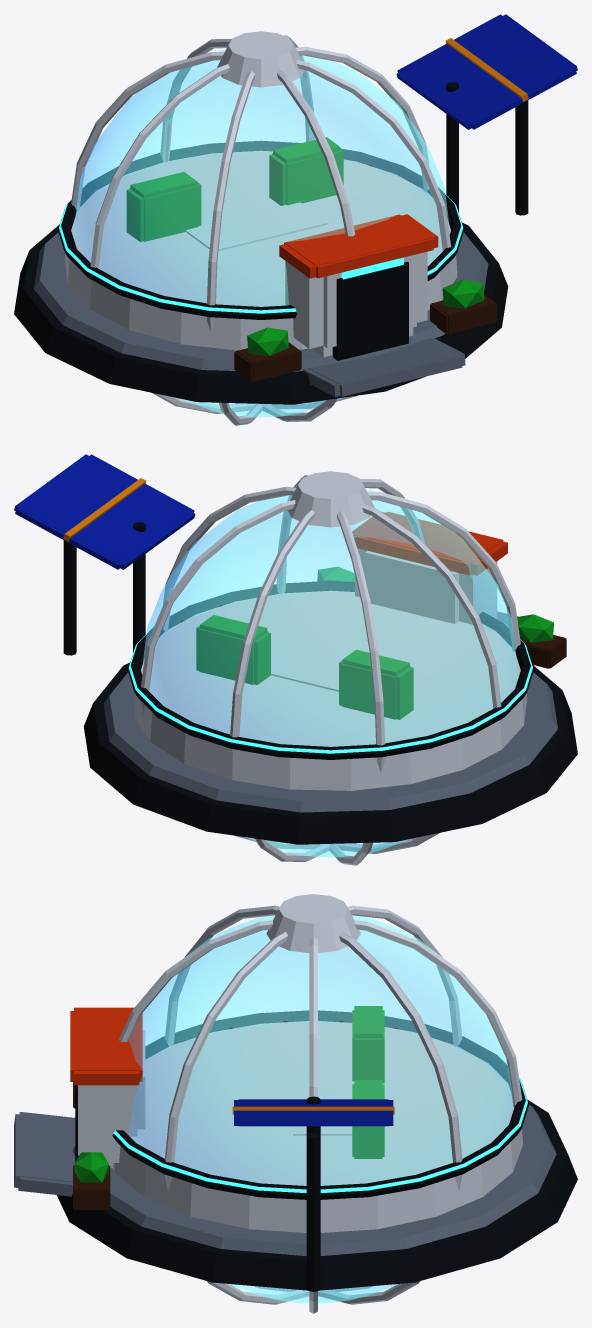
The model's file is earth_kitchen_dome.glb.
3 views of the same model, one above another, from view 1: azimuth 30°, elevation 25°; view 2: azimuth 150°, elevation 25°; view 3: azimuth 270°, elevation 25° (orthographic). The views are drawn at different scales.
Parts seen in each view (by area): view 1: KitchenDomeBody, KitchenDomeGlass, KitchenDomeGlow; view 2: KitchenDomeBody, KitchenDomeGlass, KitchenDomeGlow; view 3: KitchenDomeBody, KitchenDomeGlass, KitchenDomeGlow.
Boxes of the visible parts, bbox=[...] form: KitchenDomeBody: bbox=[14, 14, 577, 425]; KitchenDomeGlass: bbox=[73, 49, 448, 417]; KitchenDomeGlow: bbox=[59, 167, 463, 313]; KitchenDomeBody: bbox=[14, 454, 577, 865]; KitchenDomeGlass: bbox=[143, 489, 518, 857]; KitchenDomeGlow: bbox=[128, 607, 532, 753]; KitchenDomeBody: bbox=[14, 894, 577, 1313]; KitchenDomeGlass: bbox=[129, 915, 513, 1303]; KitchenDomeGlow: bbox=[113, 1038, 527, 1193].
Bounding box in the file's own units: 12.21 × 8.55 × 11.31.
